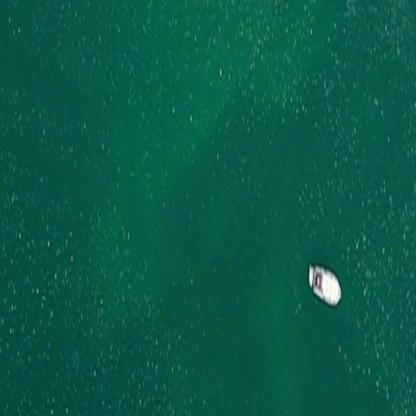ship: (296, 254, 346, 310)
